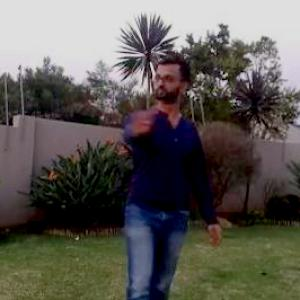takeoff-hand: (123, 96, 158, 140)
